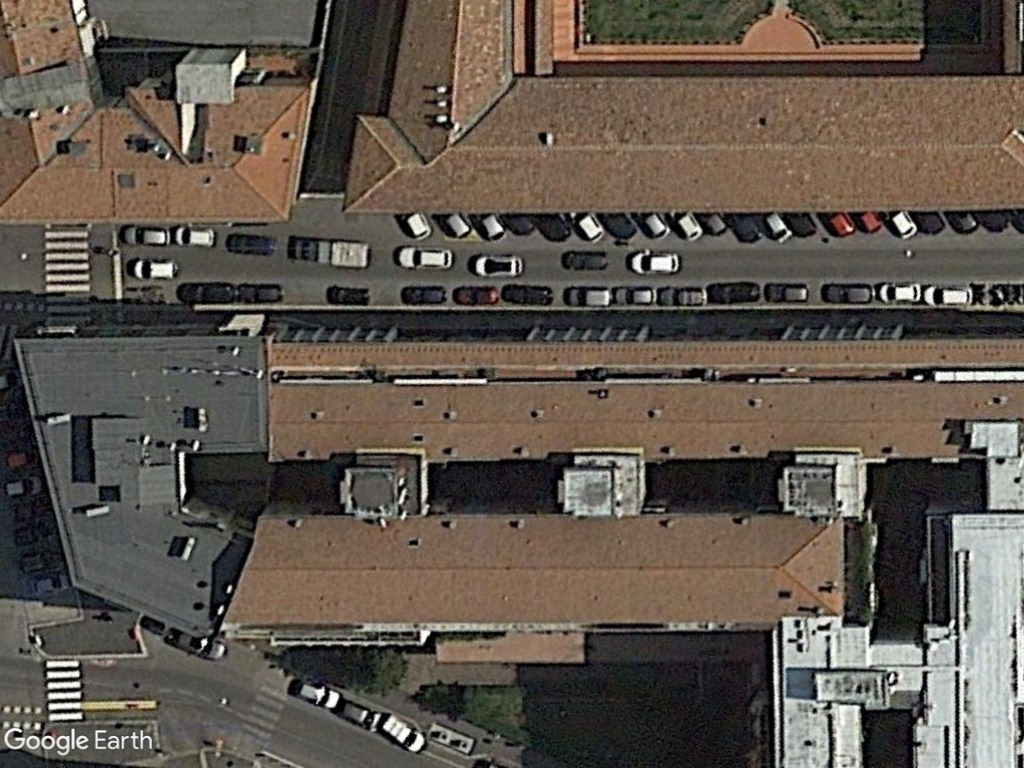car: (333, 687, 378, 737), (288, 672, 342, 712), (392, 242, 457, 273), (623, 246, 686, 277), (177, 277, 242, 305), (921, 281, 978, 312), (818, 279, 877, 308), (652, 283, 711, 312), (125, 255, 182, 284), (469, 251, 528, 279), (556, 247, 614, 274), (116, 223, 175, 249), (560, 284, 614, 311), (611, 283, 662, 310), (874, 281, 926, 307), (761, 280, 814, 305), (449, 284, 502, 309), (237, 279, 284, 307), (170, 224, 218, 250)
other: (285, 231, 376, 271)
van: (378, 706, 430, 758)
